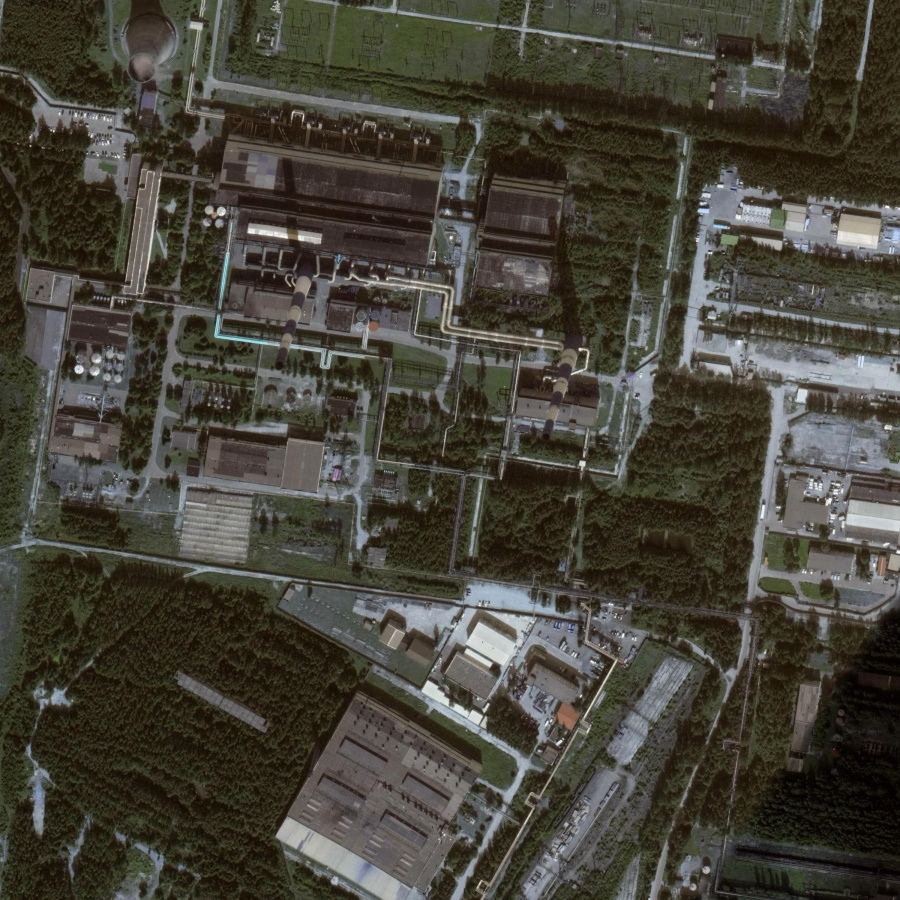PowerPlant: (228, 136, 586, 457)
